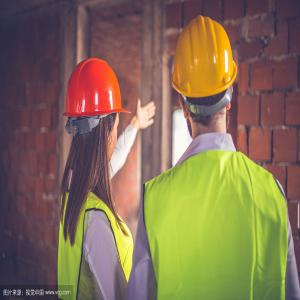red: (63, 56, 124, 168)
yellow: (171, 16, 242, 139)
